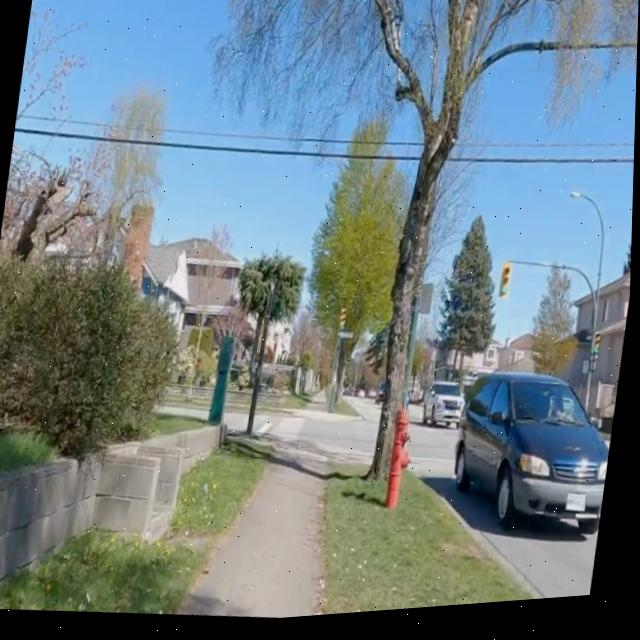Automobile: (456, 380, 612, 544), (426, 388, 465, 431), (377, 386, 387, 409)
Obstacle: (371, 0, 546, 512), (0, 455, 265, 617), (0, 431, 220, 586), (325, 473, 537, 620), (0, 530, 207, 617), (175, 450, 267, 538), (248, 287, 275, 437), (387, 412, 411, 515), (210, 335, 235, 427)
Road: (416, 450, 603, 607), (268, 404, 381, 470), (412, 411, 460, 484), (159, 410, 210, 422), (256, 418, 282, 438), (226, 417, 249, 436), (231, 416, 243, 420)
Sidewalk: (167, 437, 376, 622), (294, 392, 359, 425)
